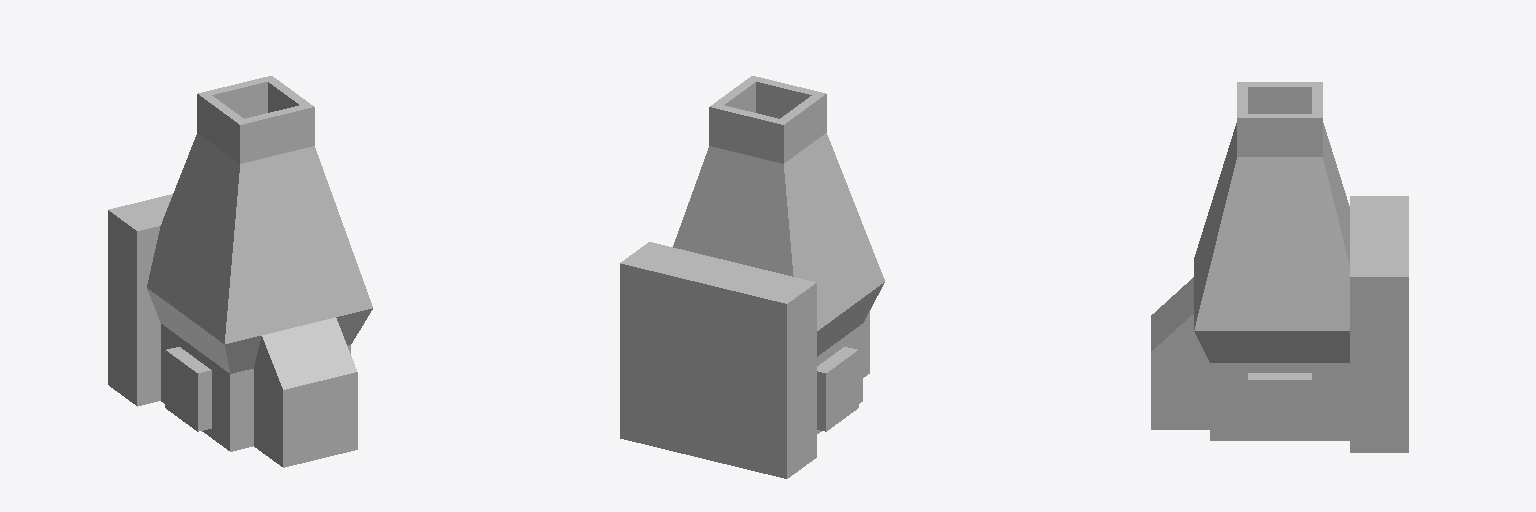
The model's file is coke_oven_advanced.obj.
The picture shows the model from 3 angles: view 1: azimuth 30°, elevation 25°; view 2: azimuth 150°, elevation 25°; view 3: azimuth 270°, elevation 25°; orthographic projection.
Parts seen in each view (by area): view 1: base; view 2: base; view 3: base.
Part boxes in pixels (bbox=[...]): base: bbox=[108, 76, 372, 467]; base: bbox=[620, 76, 884, 478]; base: bbox=[1151, 82, 1408, 452].
Bounding box in the file's own units: 2.25 × 4 × 3.